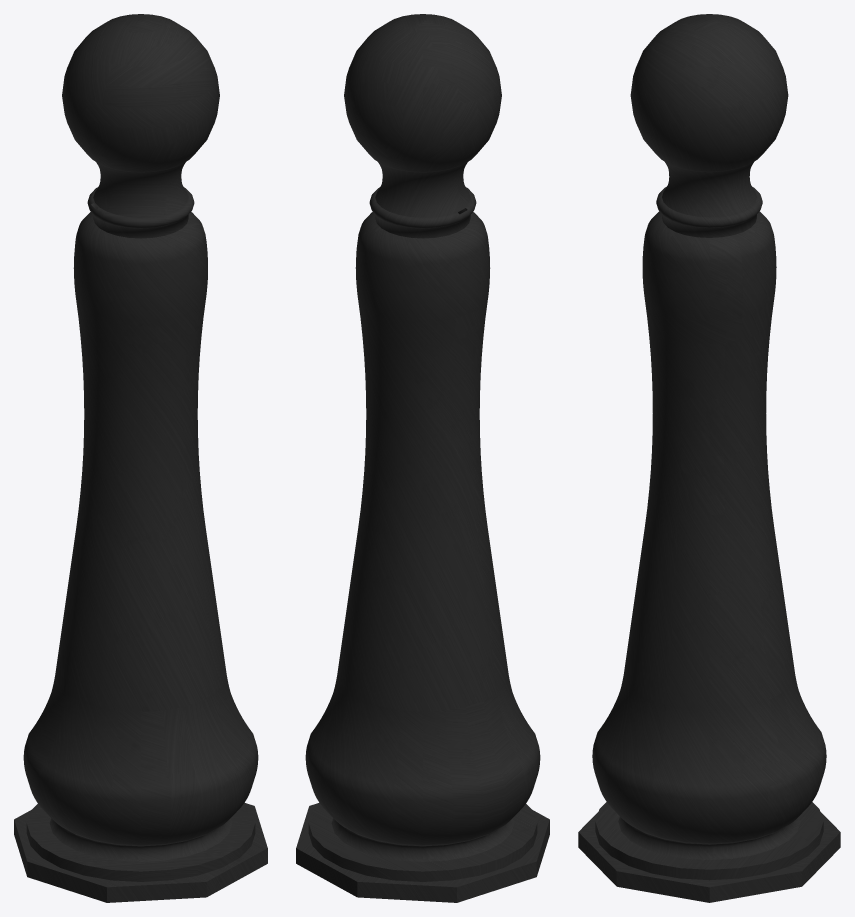
Rendered from bollard-standart.glb.
The picture shows the model from 3 angles, left to right: view 1: azimuth 30°, elevation 25°; view 2: azimuth 150°, elevation 25°; view 3: azimuth 270°, elevation 25°; orthographic projection.
Parts seen in each view (by area): view 1: Geom3D; view 2: Geom3D; view 3: Geom3D.
Boxes of the visible parts, bbox=[...] form: Geom3D: bbox=[14, 14, 267, 902]; Geom3D: bbox=[296, 14, 549, 902]; Geom3D: bbox=[578, 14, 840, 902].
Size of the model in its own units: 0.23 by 0.8 by 0.23.
Materials: 1 (1 with a texture image).
